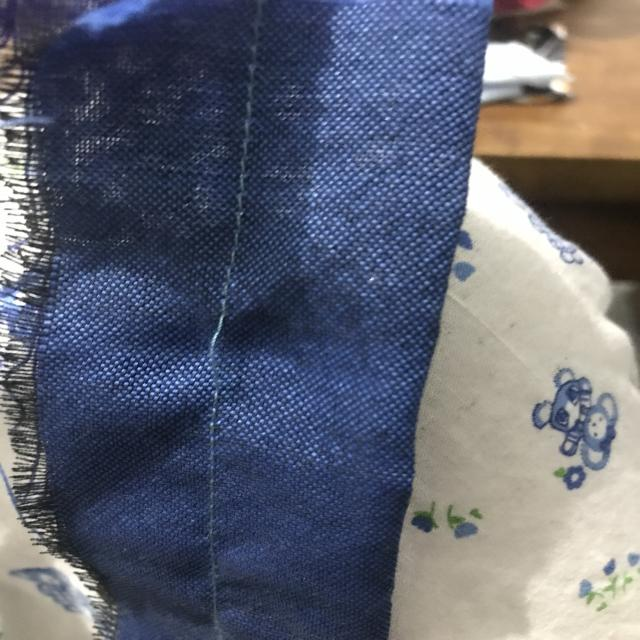good: (222, 158, 252, 255)
skip: (195, 300, 249, 404)
